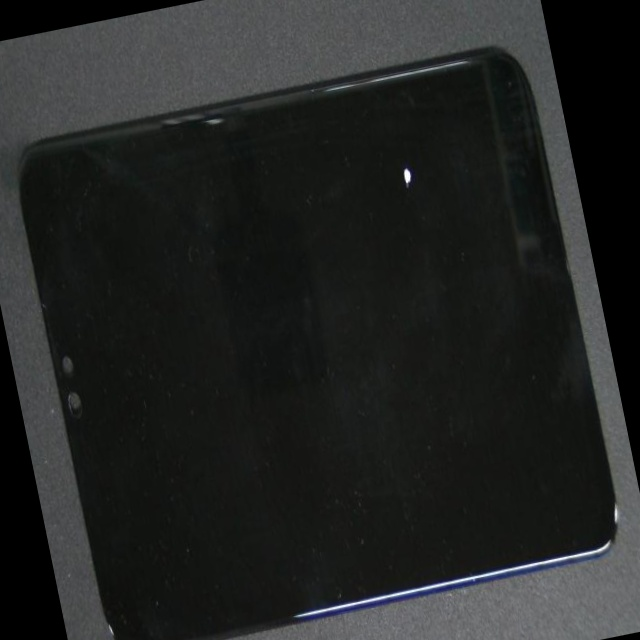stain: (174, 1, 584, 288)
